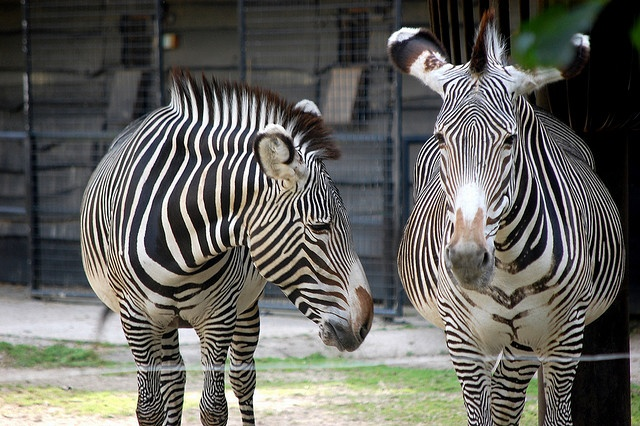zebra: (79, 70, 376, 426), (385, 11, 627, 426)
